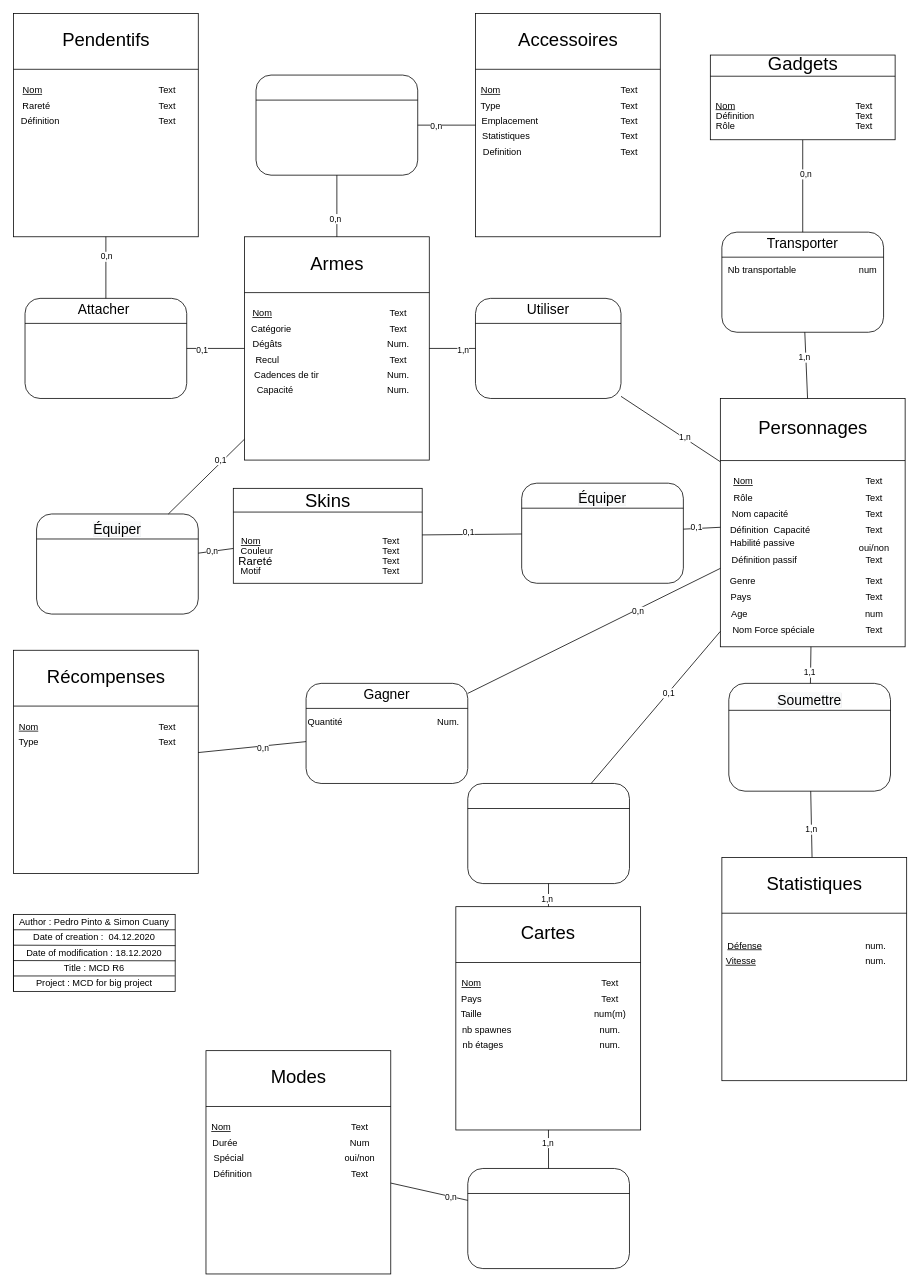
Image size: 921x1287. Some labels were removed from this diagram. The shapes that lost their labels are listed below. From the top down, each one's centre as x and y in pixels, then its label:
(336,124): É quiper
(548,833): Jouer
(548,1218): Proposer
